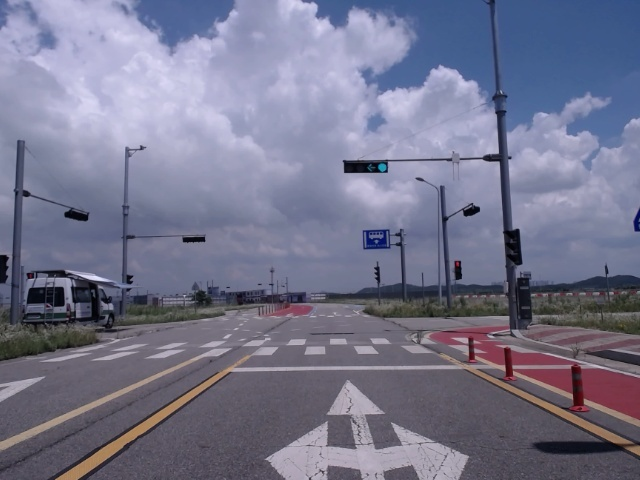all_green_4: (346, 162, 387, 175)
